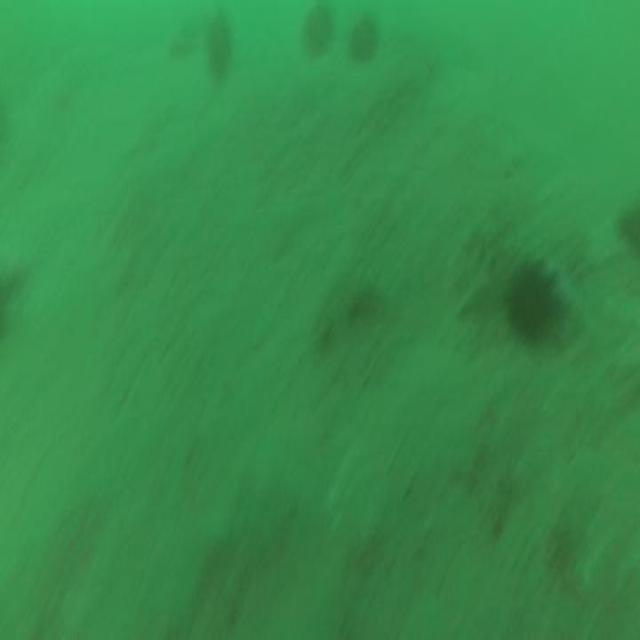echinus: (502, 248, 564, 352), (347, 9, 385, 78), (204, 12, 234, 84), (300, 2, 335, 63)
starfish: (534, 248, 580, 324)
